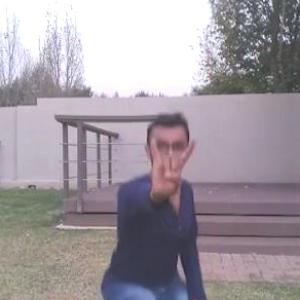takeoff-hand: (146, 134, 203, 204)
